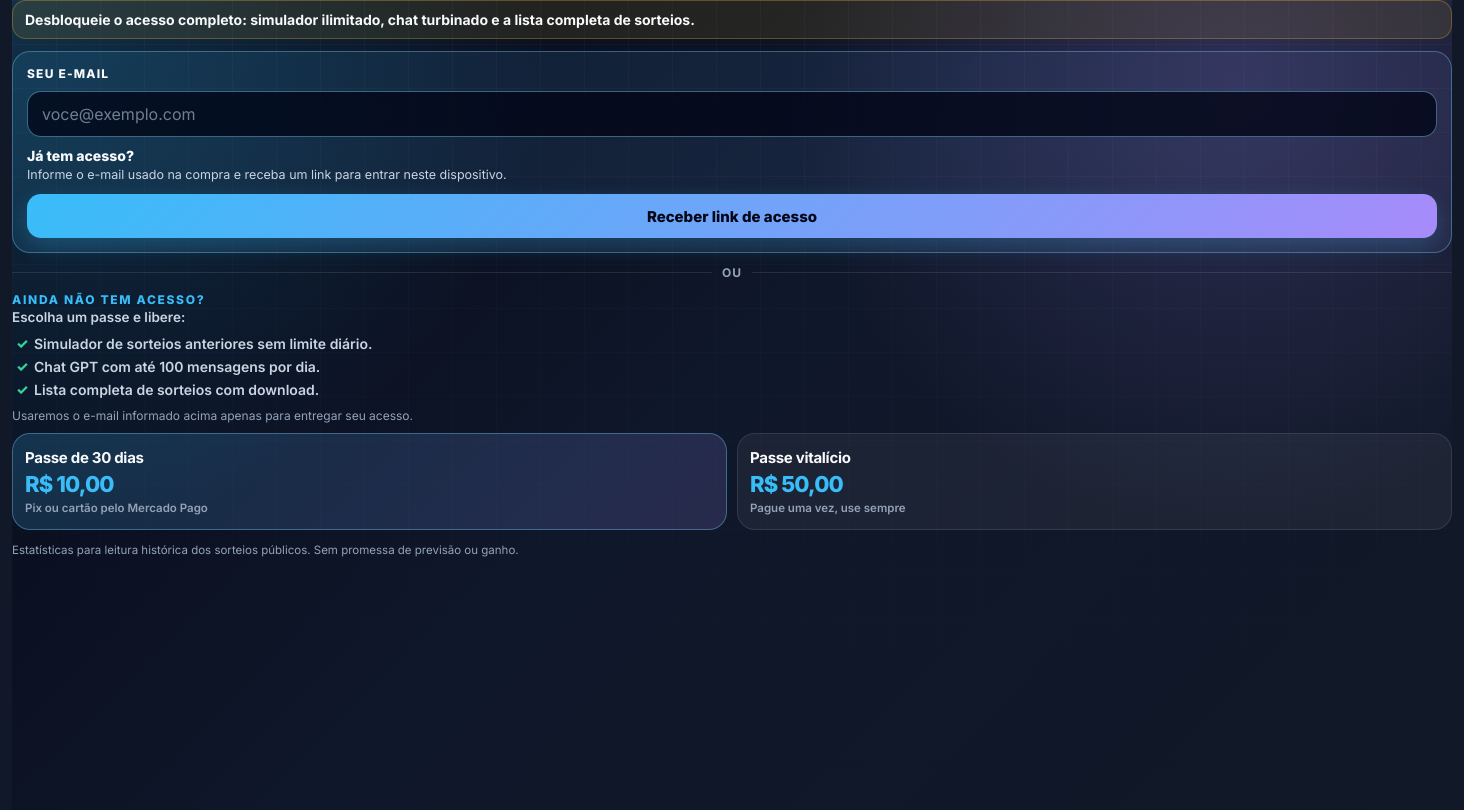
Test case: PaywallDialog › requires an e-mail before requesting an access link
Click the button "Receber link de acesso" at point(732, 216), box x1=27 y1=194 x2=1437 y2=238
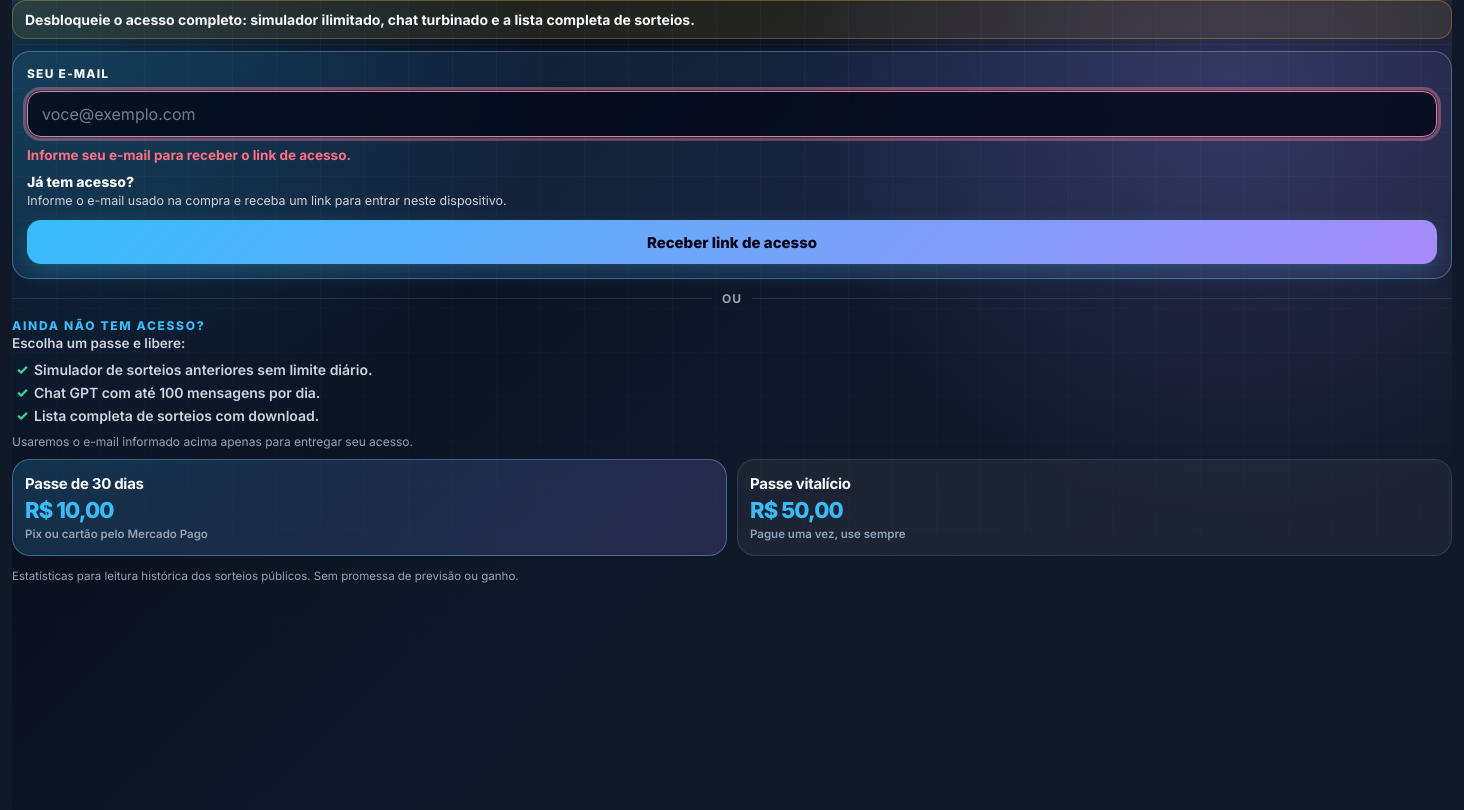
Expected: the message reads "Informe seu e-mail para receber o link de acesso.", x1=27 y1=147 x2=351 y2=163
